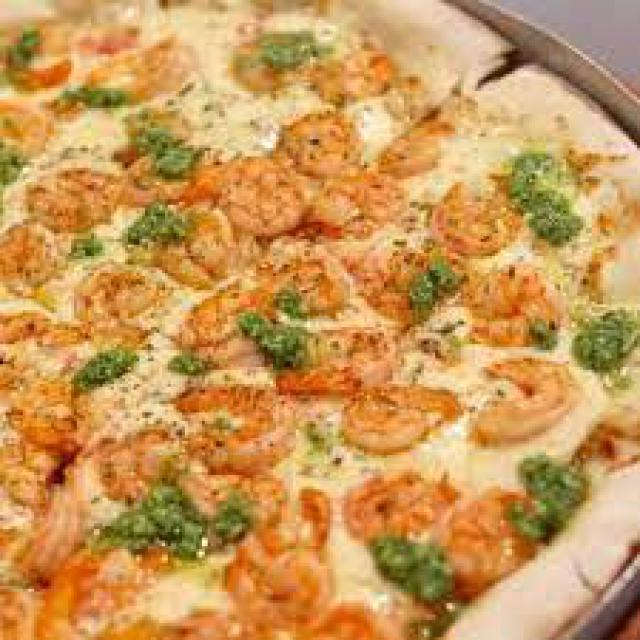camarao: (472, 350, 580, 449), (344, 383, 462, 457), (340, 470, 459, 540), (268, 107, 366, 171)
pizza: (0, 0, 635, 635)
